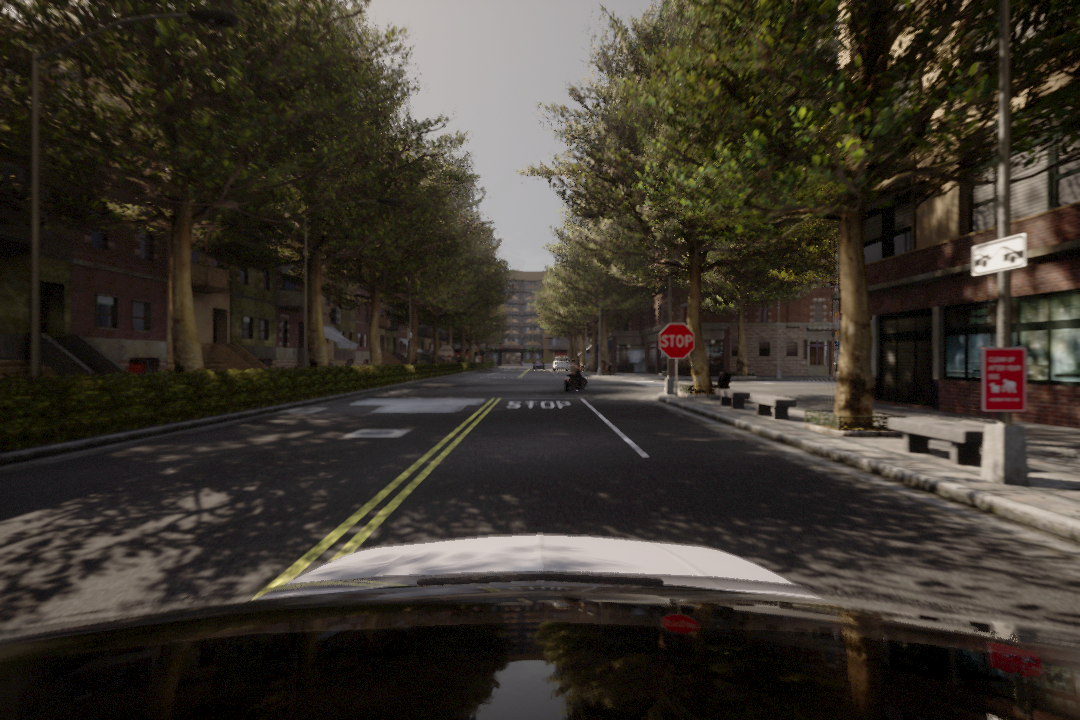TrafficSign_stop: (656, 323, 696, 360)
